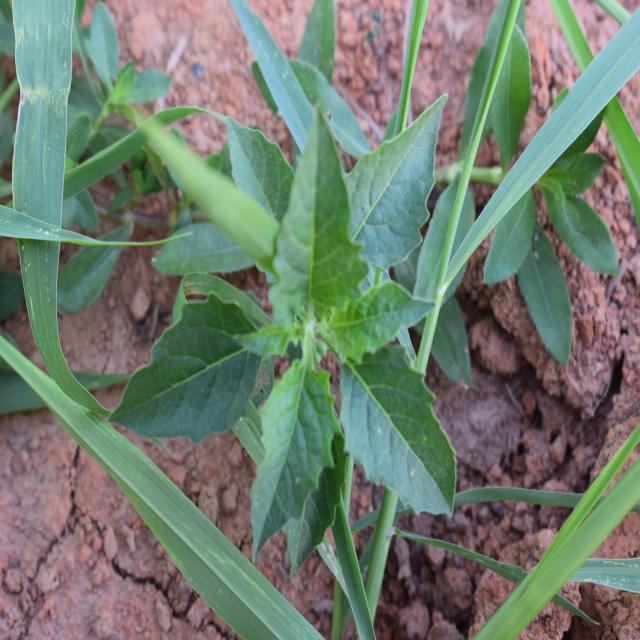Black_nightshade: (146, 140, 452, 546)
